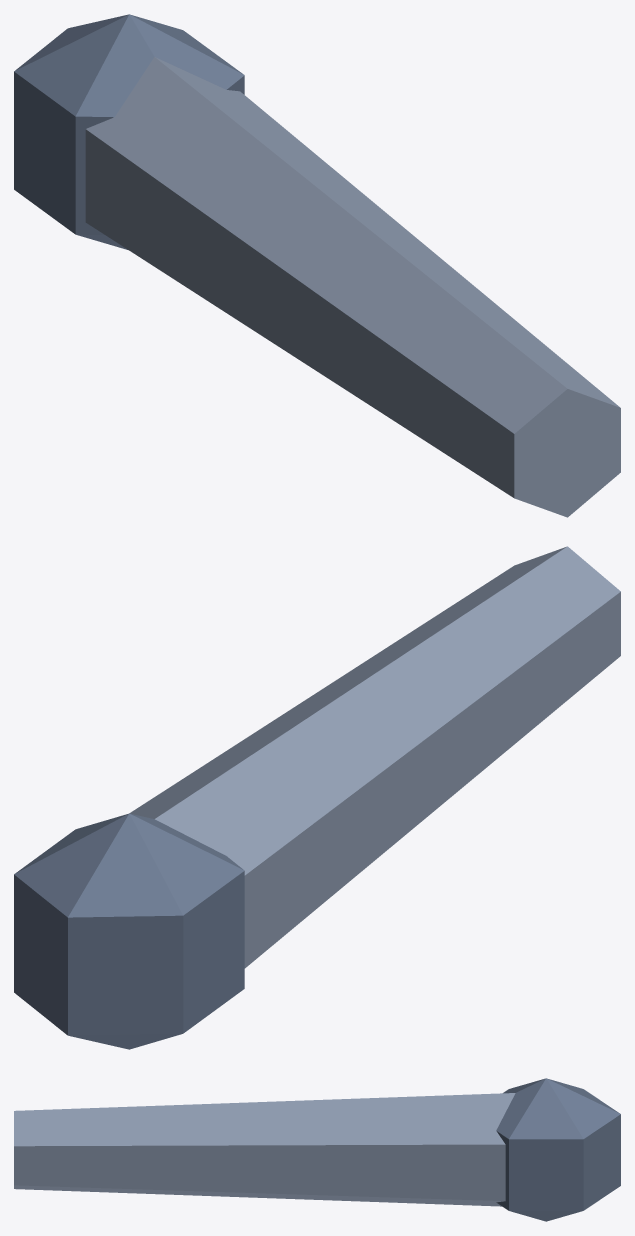
File: prop_pestle.glb
3 views of the same model, one above another, from view 1: azimuth 30°, elevation 25°; view 2: azimuth 150°, elevation 25°; view 3: azimuth 270°, elevation 25° (orthographic). The views are drawn at different scales.
Parts seen in each view (by area): view 1: prop_pestle; view 2: prop_pestle; view 3: prop_pestle.
Part boxes in pixels (x1=…): prop_pestle: x1=14, y1=14, x2=620, y2=517; prop_pestle: x1=14, y1=546, x2=620, y2=1049; prop_pestle: x1=14, y1=1078, x2=620, y2=1221.
Size of the model in its own units: 0.0165 by 0.022 by 0.0844.
Materials: 1 (1 with a texture image).
